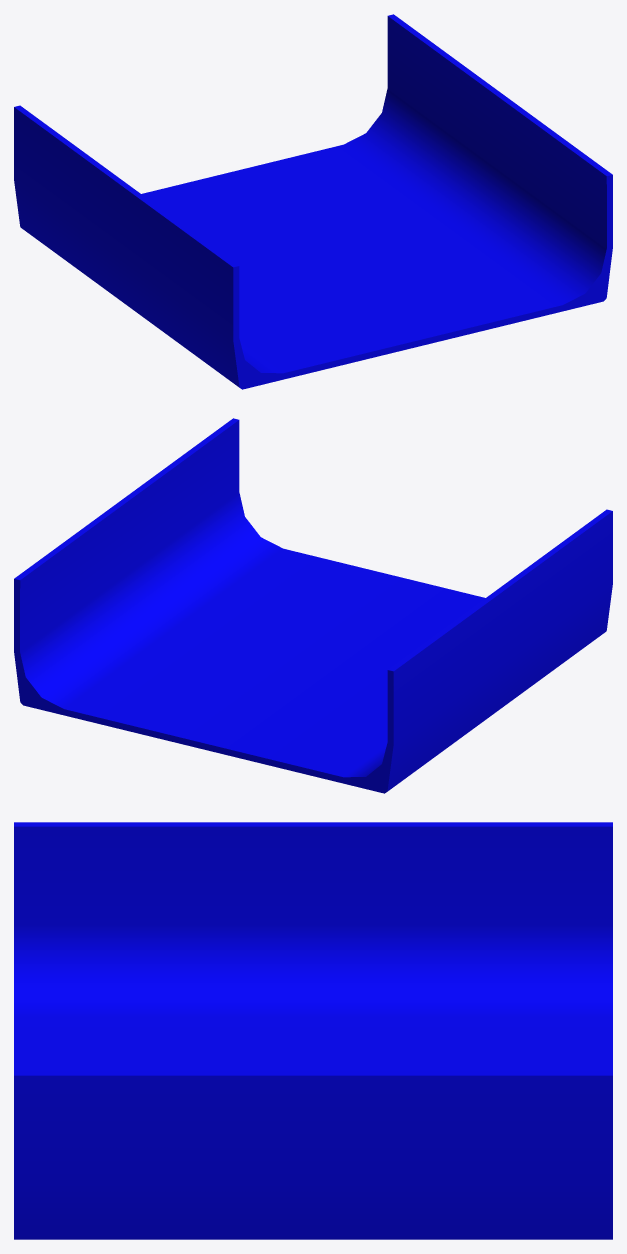
Rendered from track_MOCKUP.fbx.
The picture shows the model from 3 angles, top to bottom: view 1: azimuth 30°, elevation 25°; view 2: azimuth 150°, elevation 25°; view 3: azimuth 270°, elevation 25°; orthographic projection. The views are drawn at different scales.
Visible parts, largest first — view 1: track_MOCKUP; view 2: track_MOCKUP; view 3: track_MOCKUP.
Boxes of the visible parts, <box> form: track_MOCKUP: <box>14,14,612,389</box>; track_MOCKUP: <box>14,418,612,793</box>; track_MOCKUP: <box>14,822,612,1239</box>.
Size of the model in its own units: 1 by 0.3131 by 1.
